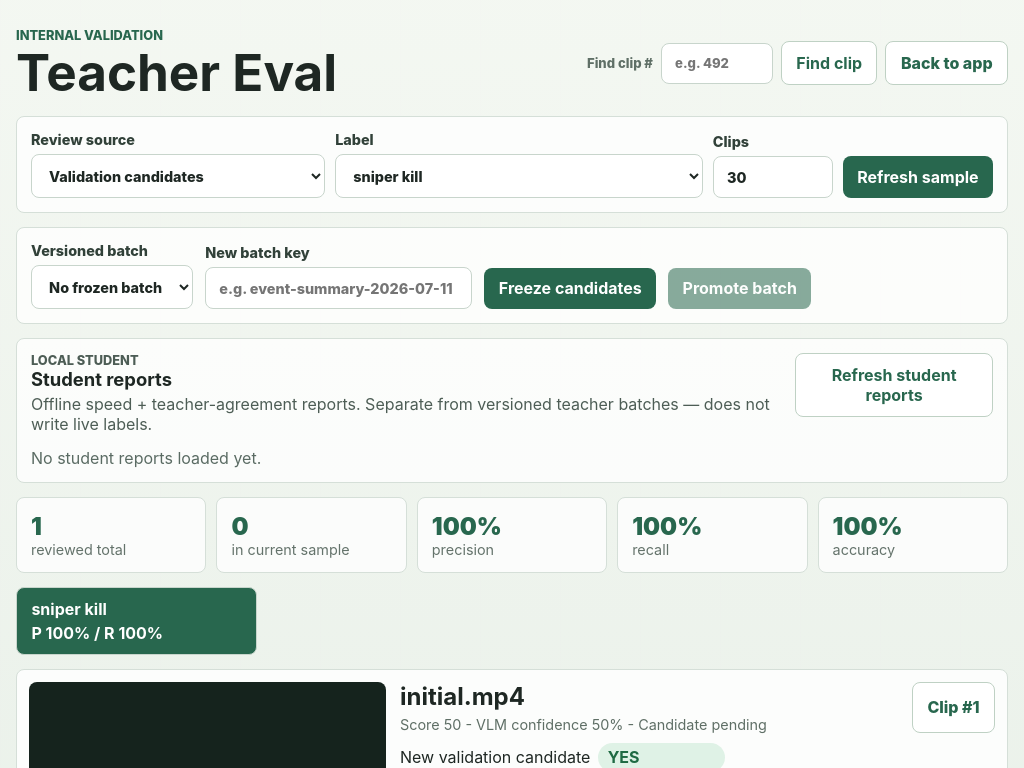
Test: EvalDashboard request ordering › keeps the newest load when responses arrive in reverse order
Check: the heading "initial.mp4" is shown, box [400, 682, 525, 711]
Select "Promoted live labels" in the dropdown labelled "Review source" at (178, 176), box [31, 154, 325, 198]
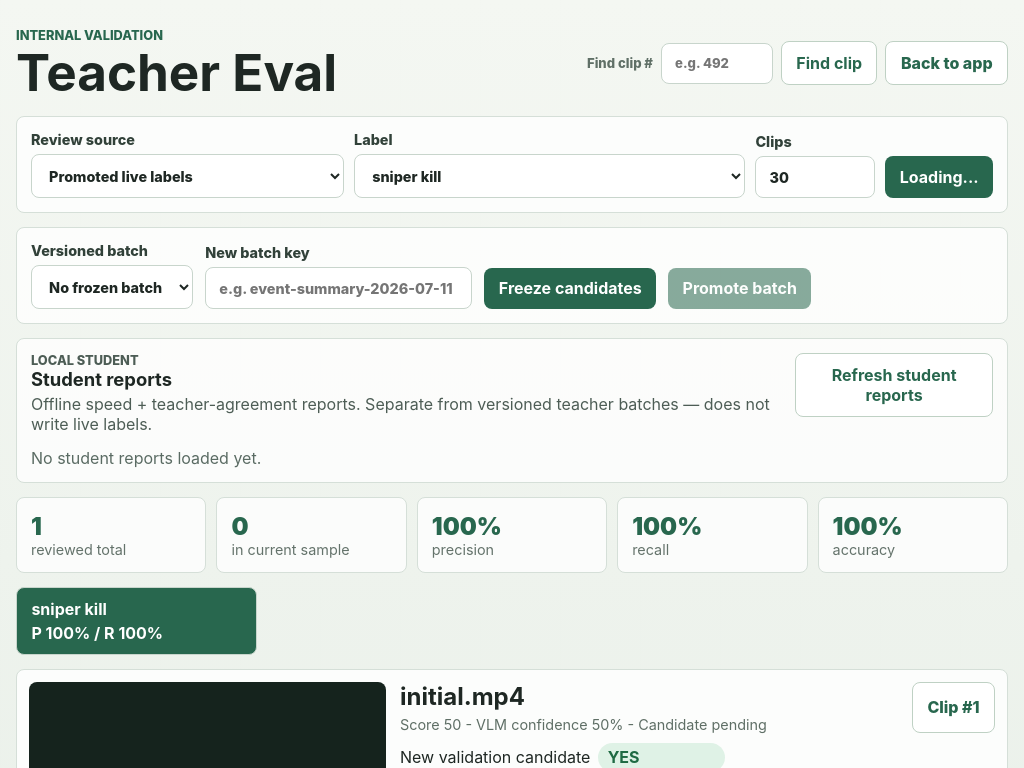
Select "Validation candidates" in the dropdown labelled "Review source" at (188, 176), box [31, 154, 344, 198]
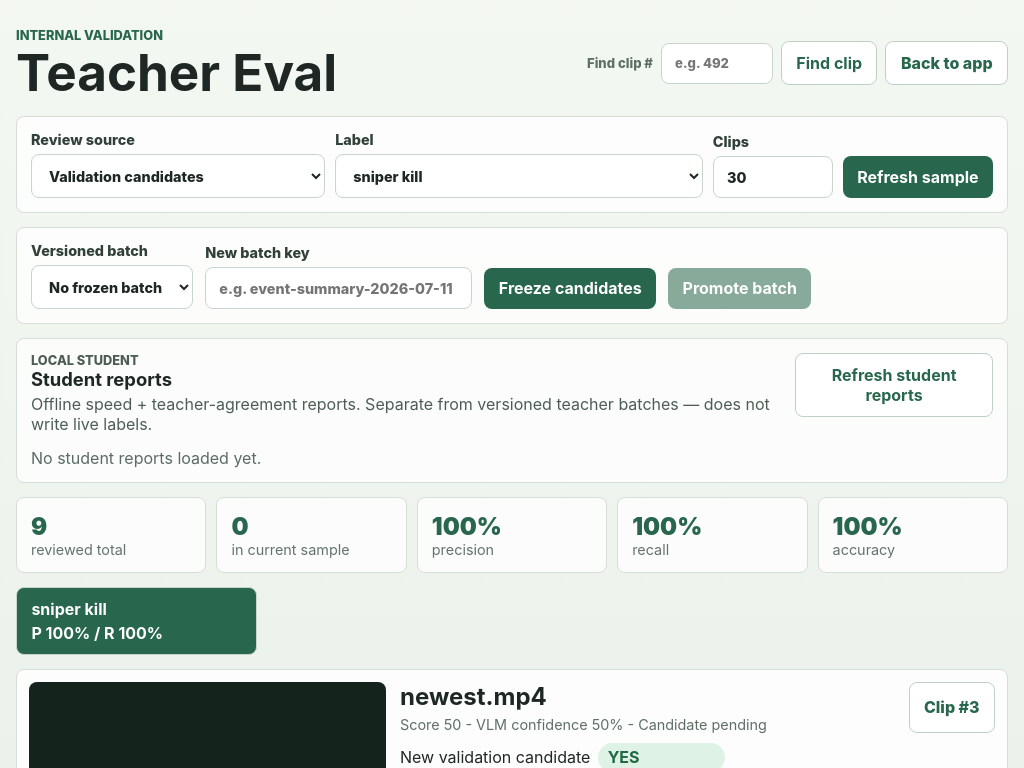
Check: the heading "newest.mp4" is shown, box [400, 682, 547, 711]
Check: the text "9" is shown, box [31, 512, 47, 541]
